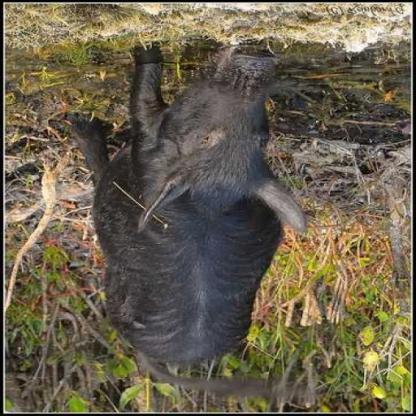boar: (87, 17, 305, 380)
